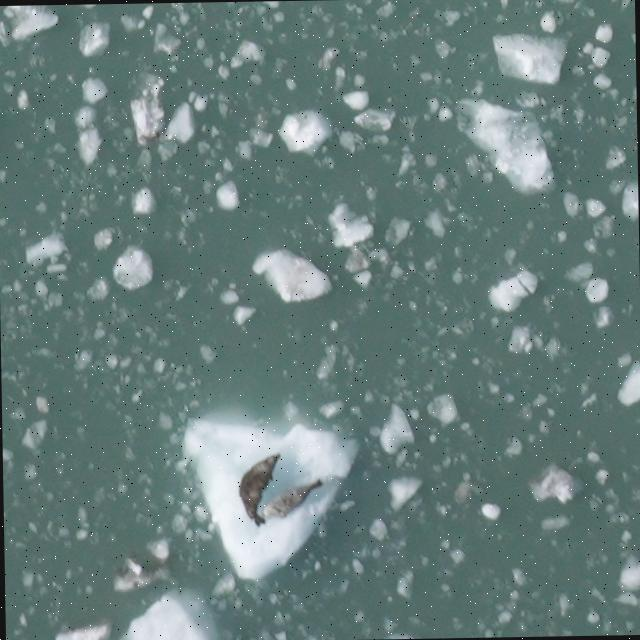seal: (234, 451, 286, 529), (258, 475, 329, 527)
